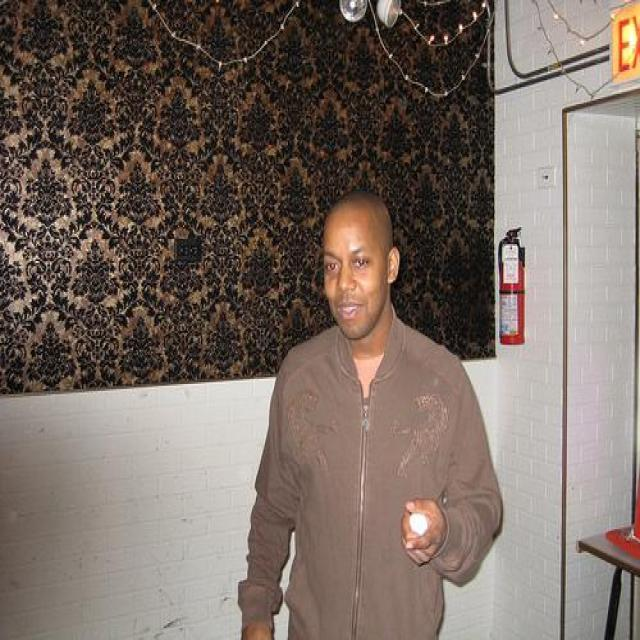ping-pong-ball: (406, 510, 428, 538)
